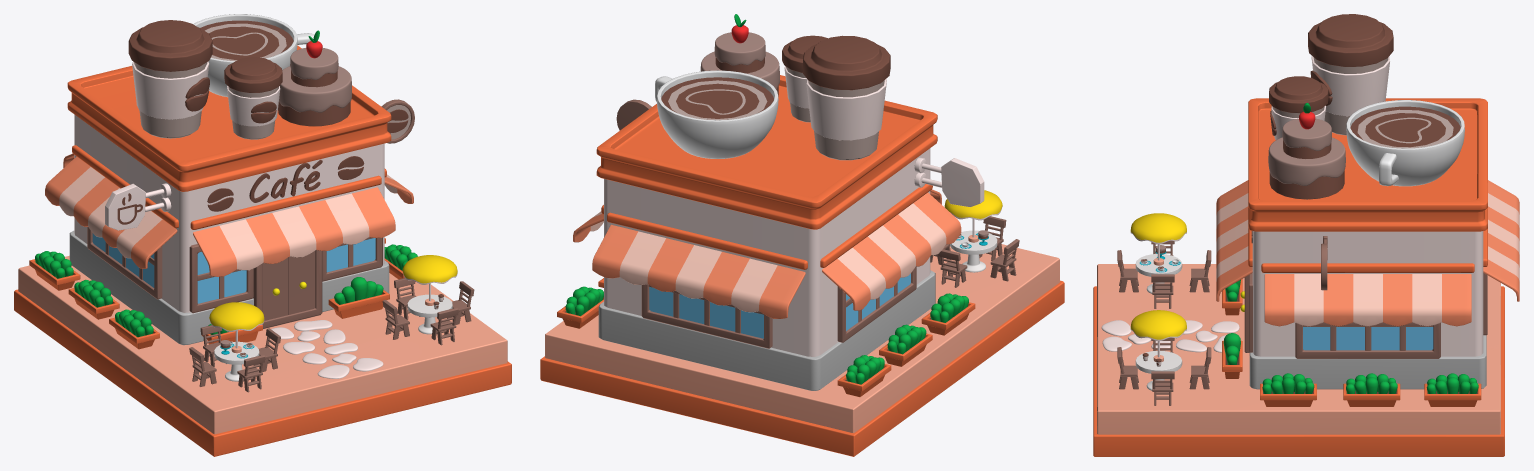
File: Store_Island_5.glb
The picture shows the model from 3 angles, left to right: view 1: azimuth 30°, elevation 25°; view 2: azimuth 150°, elevation 25°; view 3: azimuth 270°, elevation 25°; orthographic projection. The views are drawn at different scales.
Parts seen in each view (by area): view 1: Store_5_Cafe_1, Store_5_Base_1, Store_5_Coffee_Drink_2, Store_5_Cake_2, Store_5_Cup_Cappuccino_Sign_1, Store_5_Coffee_Drink_3, Store_5_Isl_Coffee_Logo_1, Store_5_Plant_1, Store_5_Umbrella_2, Store_5_Path_2, Store_5_Umbrella_1, Store_5_Path_1 (+16 smaller); view 2: Store_5_Cafe_1, Store_5_Base_1, Store_5_Coffee_Drink_2, Store_5_Cup_Cappuccino_Sign_1, Store_5_Cake_2, Store_5_Isl_Coffee_Logo_1, Store_5_Coffee_Drink_3, Store_5_Plant_6, Store_5_Plant_8, Store_5_Plant_7, Store_5_Plant_2, Store_5_Umbrella_2 (+4 smaller); view 3: Store_5_Cafe_1, Store_5_Base_1, Store_5_Cup_Cappuccino_Sign_1, Store_5_Coffee_Drink_2, Store_5_Cake_2, Store_5_Coffee_Drink_3, Store_5_Plant_2, Store_5_Plant_4, Store_5_Plant_5, Store_5_Umbrella_2, Store_5_Umbrella_1, Store_5_Path_1 (+11 smaller).
Boxes of the visible parts, left/top/right/bottom form: Store_5_Cafe_1: left=45, top=45, right=413, bottom=345; Store_5_Base_1: left=14, top=255, right=511, bottom=456; Store_5_Coffee_Drink_2: left=128, top=20, right=212, bottom=138; Store_5_Cake_2: left=278, top=48, right=351, bottom=126; Store_5_Cup_Cappuccino_Sign_1: left=193, top=14, right=314, bottom=97; Store_5_Coffee_Drink_3: left=224, top=57, right=282, bottom=139; Store_5_Isl_Coffee_Logo_1: left=105, top=183, right=171, bottom=230; Store_5_Plant_1: left=328, top=277, right=389, bottom=318; Store_5_Umbrella_2: left=209, top=302, right=264, bottom=353; Store_5_Path_2: left=302, top=343, right=383, bottom=378; Store_5_Umbrella_1: left=402, top=255, right=457, bottom=305; Store_5_Path_1: left=271, top=320, right=345, bottom=354; Store_5_Cafe_1: left=573, top=75, right=961, bottom=390; Store_5_Base_1: left=540, top=244, right=1064, bottom=456; Store_5_Coffee_Drink_2: left=803, top=35, right=890, bottom=160; Store_5_Cup_Cappuccino_Sign_1: left=655, top=70, right=778, bottom=158; Store_5_Cake_2: left=700, top=32, right=779, bottom=96; Store_5_Isl_Coffee_Logo_1: left=914, top=157, right=984, bottom=207; Store_5_Coffee_Drink_3: left=782, top=35, right=827, bottom=122; Store_5_Plant_6: left=921, top=293, right=975, bottom=335; Store_5_Plant_8: left=837, top=355, right=891, bottom=397; Store_5_Plant_7: left=879, top=324, right=932, bottom=366; Store_5_Plant_2: left=557, top=286, right=603, bottom=328; Store_5_Umbrella_2: left=944, top=190, right=1002, bottom=242; Store_5_Cafe_1: left=1216, top=98, right=1519, bottom=389; Store_5_Base_1: left=1093, top=264, right=1504, bottom=456; Store_5_Cup_Cappuccino_Sign_1: left=1346, top=100, right=1464, bottom=186; Store_5_Coffee_Drink_2: left=1308, top=14, right=1393, bottom=135; Store_5_Cake_2: left=1268, top=118, right=1345, bottom=199; Store_5_Coffee_Drink_3: left=1269, top=76, right=1328, bottom=139; Store_5_Plant_2: left=1424, top=373, right=1481, bottom=406; Store_5_Plant_4: left=1343, top=373, right=1400, bottom=406; Store_5_Plant_5: left=1260, top=373, right=1316, bottom=406; Store_5_Umbrella_2: left=1130, top=213, right=1186, bottom=265; Store_5_Umbrella_1: left=1130, top=310, right=1186, bottom=361; Store_5_Path_1: left=1176, top=320, right=1239, bottom=352.
Bounding box in the file's own units: 12.52 × 11.46 × 13.77.
41 materials, 41 textured.
